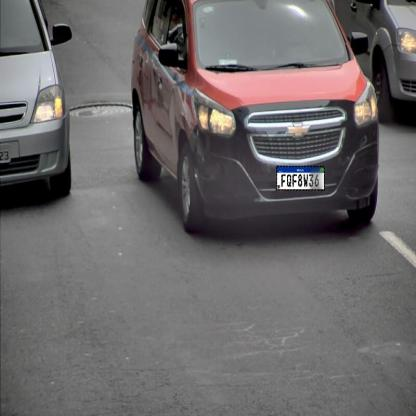PlacaM: (276, 166, 325, 190)
